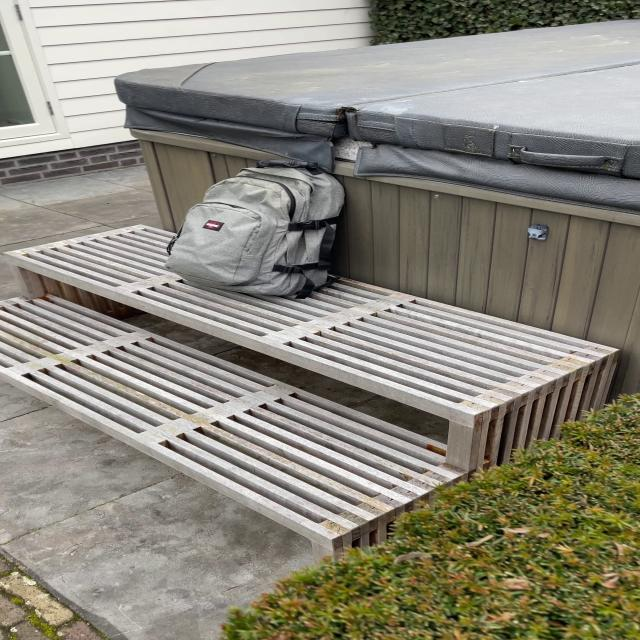backpack: (158, 155, 352, 297)
